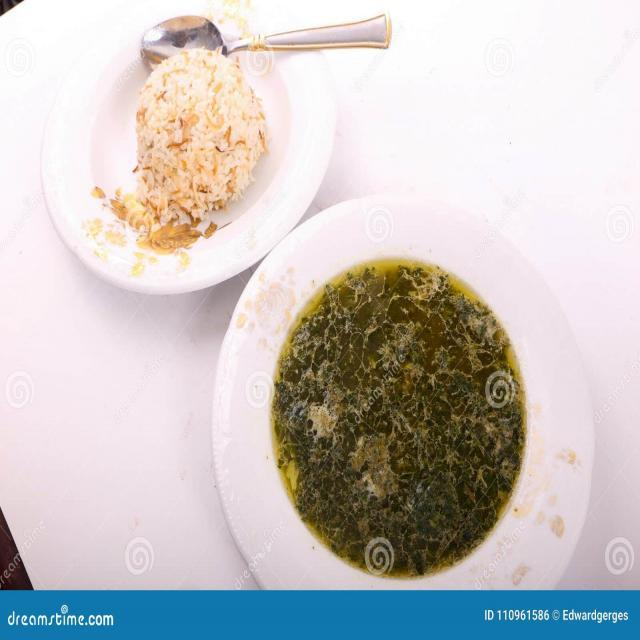molokhia: (258, 254, 542, 581)
